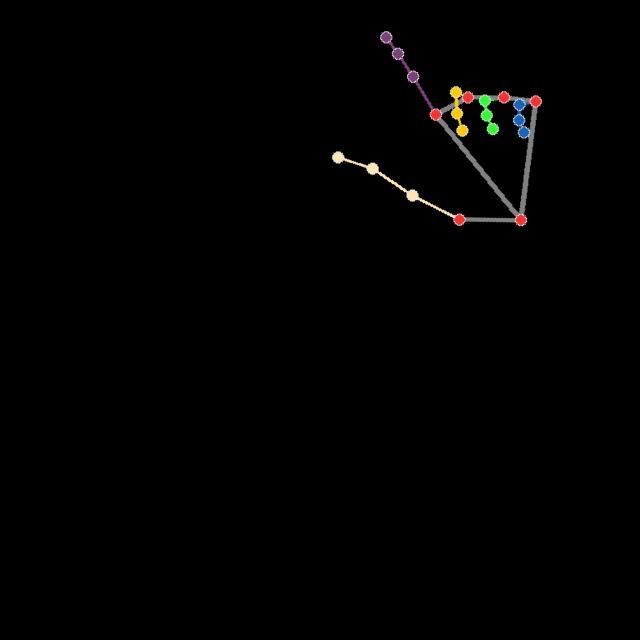gun: (331, 29, 544, 228)
